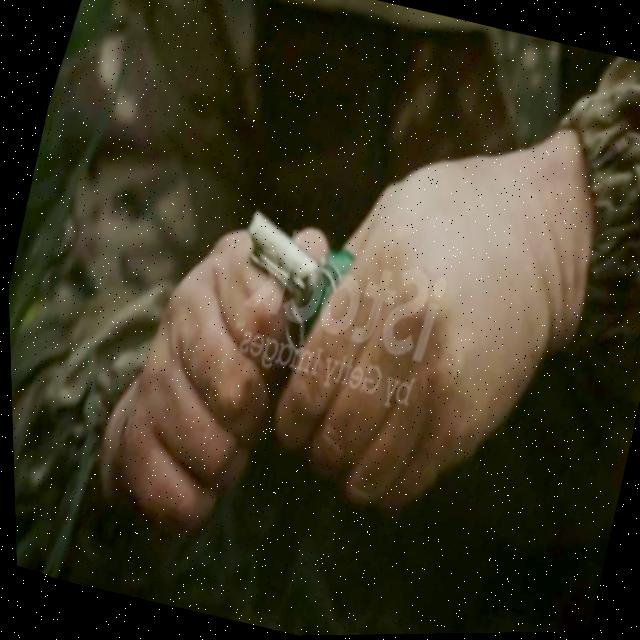grenade: (209, 187, 363, 354)
